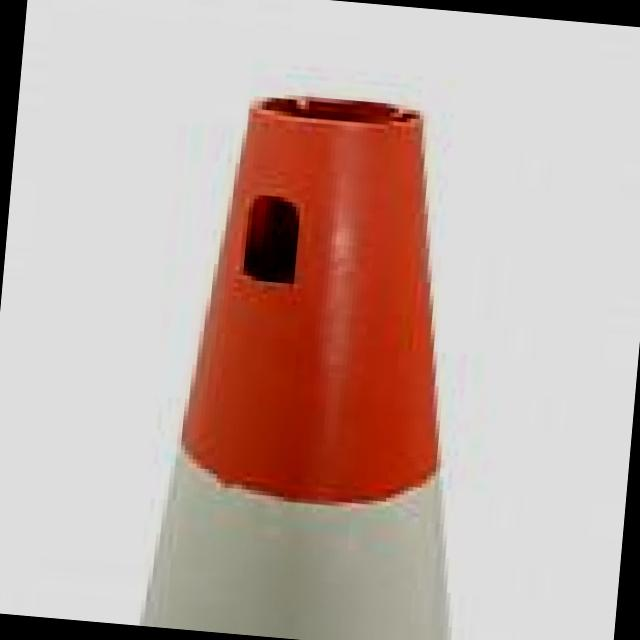cone: (130, 71, 518, 640)
